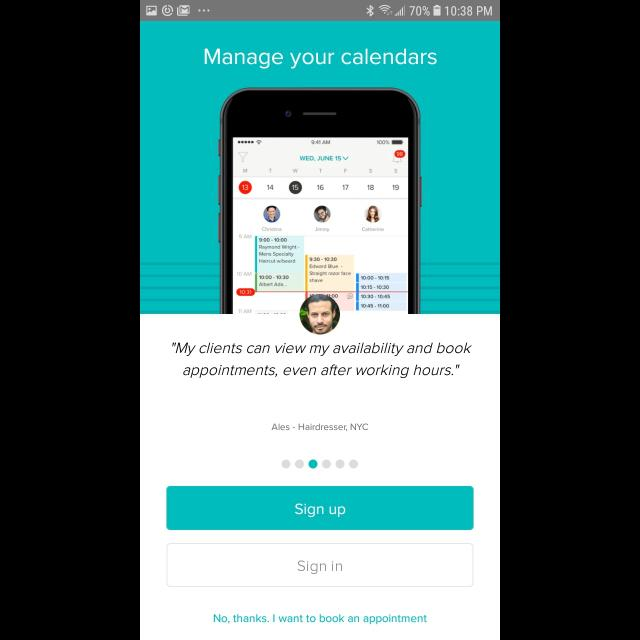image: (218, 88, 422, 314), (300, 294, 340, 334)
pageindicator: (282, 459, 358, 469)
text: (172, 342, 472, 378), (205, 49, 437, 70), (214, 614, 426, 624), (272, 423, 368, 432)
textbutton: (166, 486, 474, 530), (167, 543, 473, 587)
uppertaskbar: (140, 1, 500, 22)
